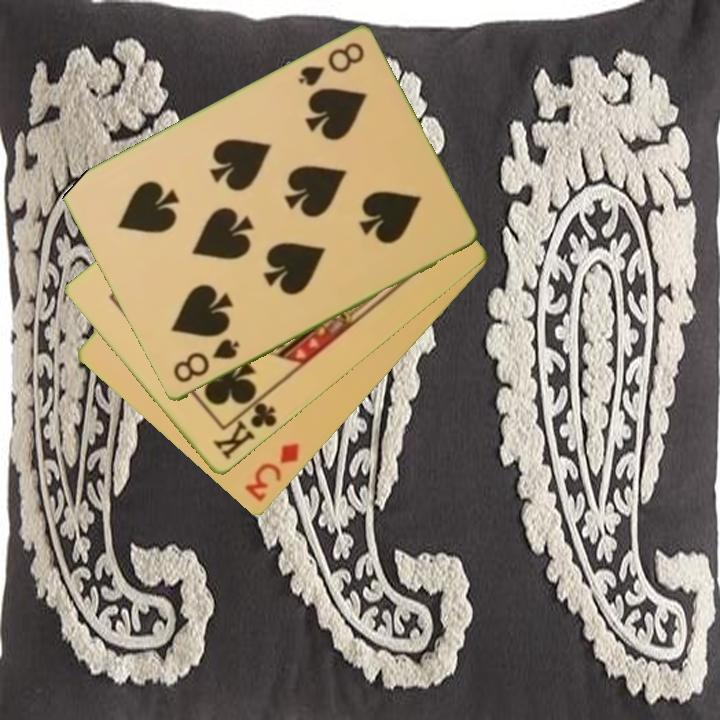3d: (241, 439, 303, 505)
8s: (169, 335, 243, 387), (294, 39, 367, 90)
Kc: (209, 392, 281, 464)
